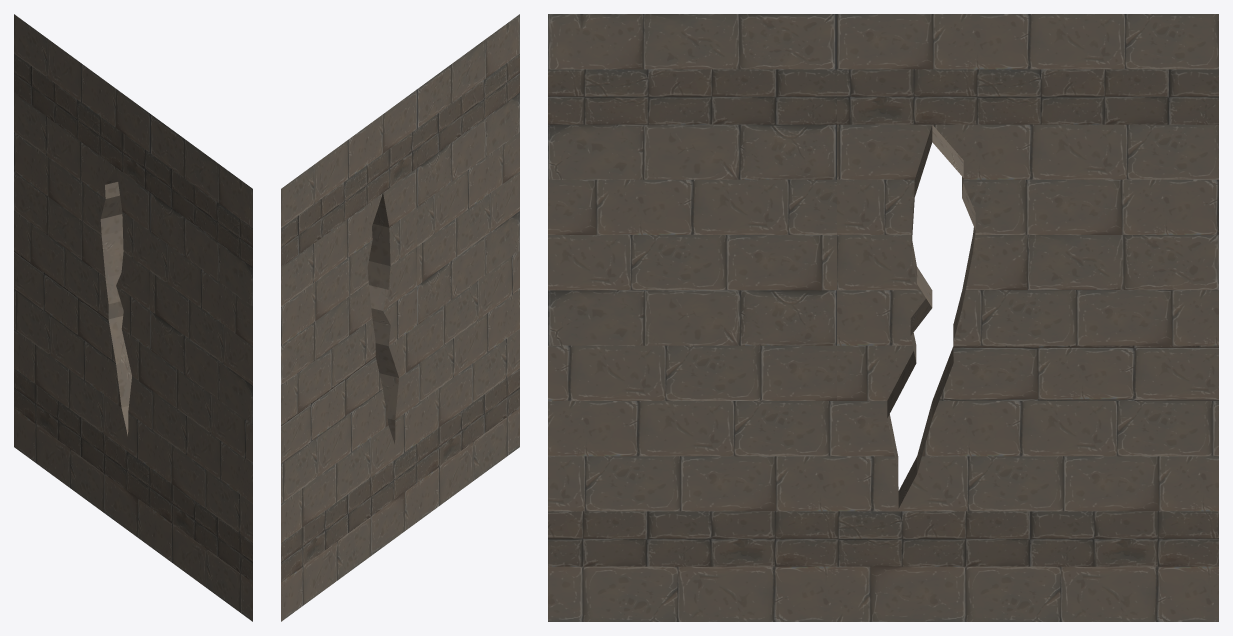
Rendered from Ruins_BaseWall_Broken_01a.fbx.
3 renders of one model, left to right at view 1: azimuth 30°, elevation 25°; view 2: azimuth 150°, elevation 25°; view 3: azimuth 270°, elevation 25°, orthographic. The views are drawn at different scales.
Parts seen in each view (by area): view 1: Ruins_BaseWall_Broken_01a; view 2: Ruins_BaseWall_Broken_01a; view 3: Ruins_BaseWall_Broken_01a.
Part boxes in pixels (x1,y1,x2,y2): Ruins_BaseWall_Broken_01a: [14, 14, 252, 621]; Ruins_BaseWall_Broken_01a: [281, 14, 519, 621]; Ruins_BaseWall_Broken_01a: [548, 14, 1218, 621].
Bounding box in the file's own units: 0.5 × 8 × 8.
1 material, 1 textured.
